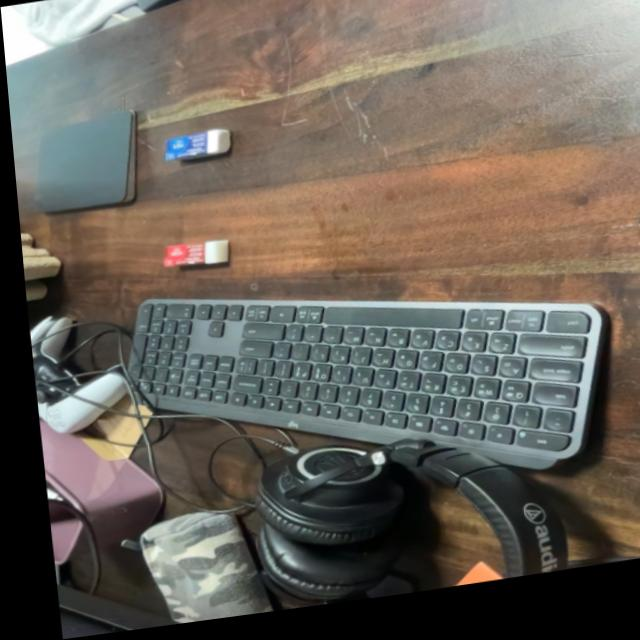blue: (156, 128, 237, 168)
red: (153, 239, 229, 275)
